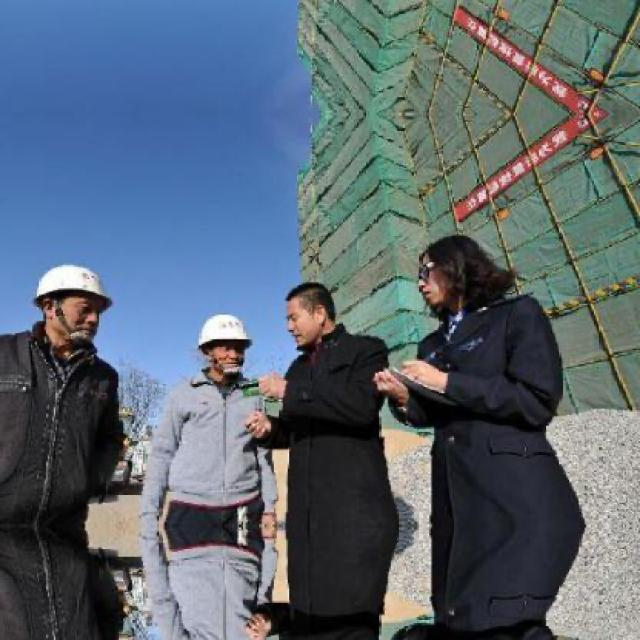con casco: (0, 244, 149, 362), (160, 296, 264, 422)
sin casco: (420, 224, 512, 342), (281, 263, 378, 364)
